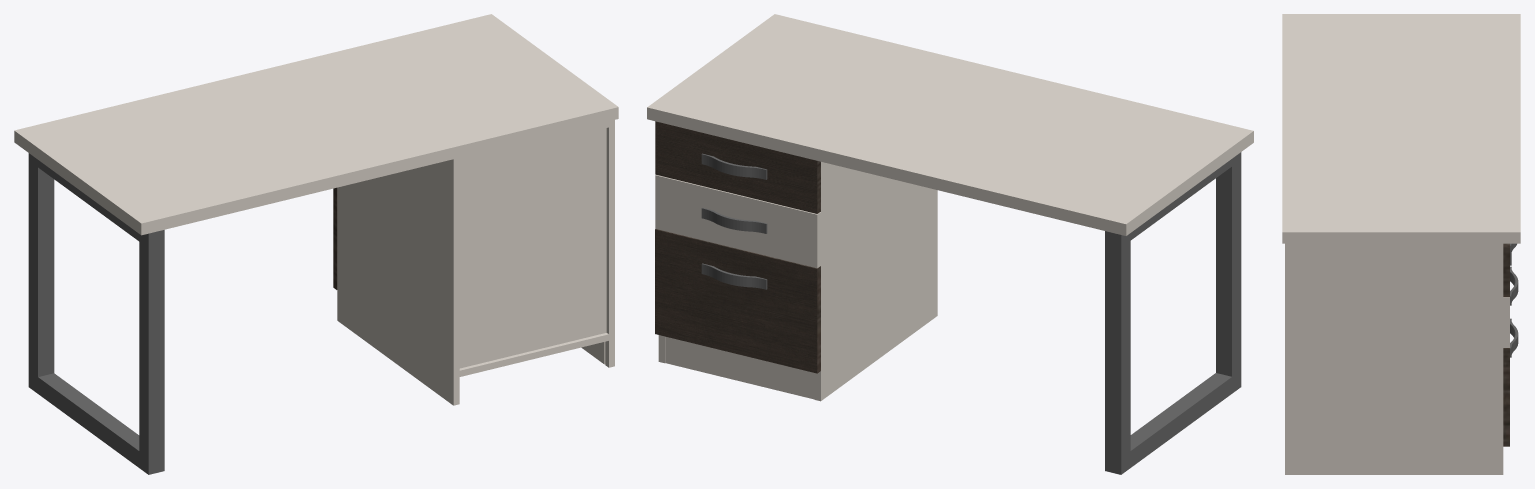
File: Table.FBX
3 renders of one model, left to right at view 1: azimuth 30°, elevation 25°; view 2: azimuth 150°, elevation 25°; view 3: azimuth 270°, elevation 25°, orthographic. The views are drawn at different scales.
Parts seen in each view (by area): view 1: Table; view 2: Table; view 3: Table.
Part boxes in pixels (<box>): Table: <box>14,14,618,474</box>; Table: <box>647,14,1253,474</box>; Table: <box>1282,14,1520,474</box>.
Size of the model in its own units: 1478 by 768 by 682.
Materials: 2 (1 with a texture image).
